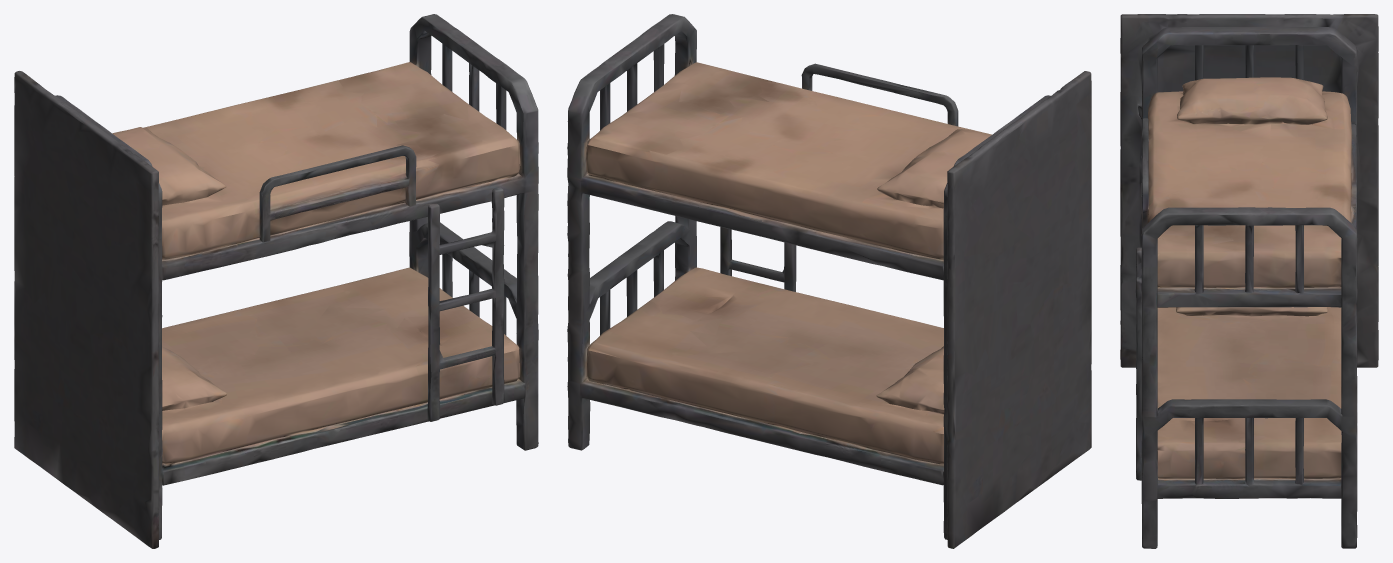
The model's file is prison_bunk_idle.glb.
3 views of the same model, side by side, from view 1: azimuth 30°, elevation 25°; view 2: azimuth 150°, elevation 25°; view 3: azimuth 270°, elevation 25° (orthographic). The views are drawn at different scales.
Visible parts, largest first — view 1: tripo_node_ff4e8388-a223-4c05-99fd-c5875cf35860; view 2: tripo_node_ff4e8388-a223-4c05-99fd-c5875cf35860; view 3: tripo_node_ff4e8388-a223-4c05-99fd-c5875cf35860.
Part boxes in pixels (x1=…): tripo_node_ff4e8388-a223-4c05-99fd-c5875cf35860: x1=14, y1=14, x2=538, y2=548; tripo_node_ff4e8388-a223-4c05-99fd-c5875cf35860: x1=567, y1=14, x2=1091, y2=548; tripo_node_ff4e8388-a223-4c05-99fd-c5875cf35860: x1=1120, y1=14, x2=1378, y2=548.
Size of the model in its own units: 1.97 by 1.8 by 1.19.
1 material, 1 textured.
